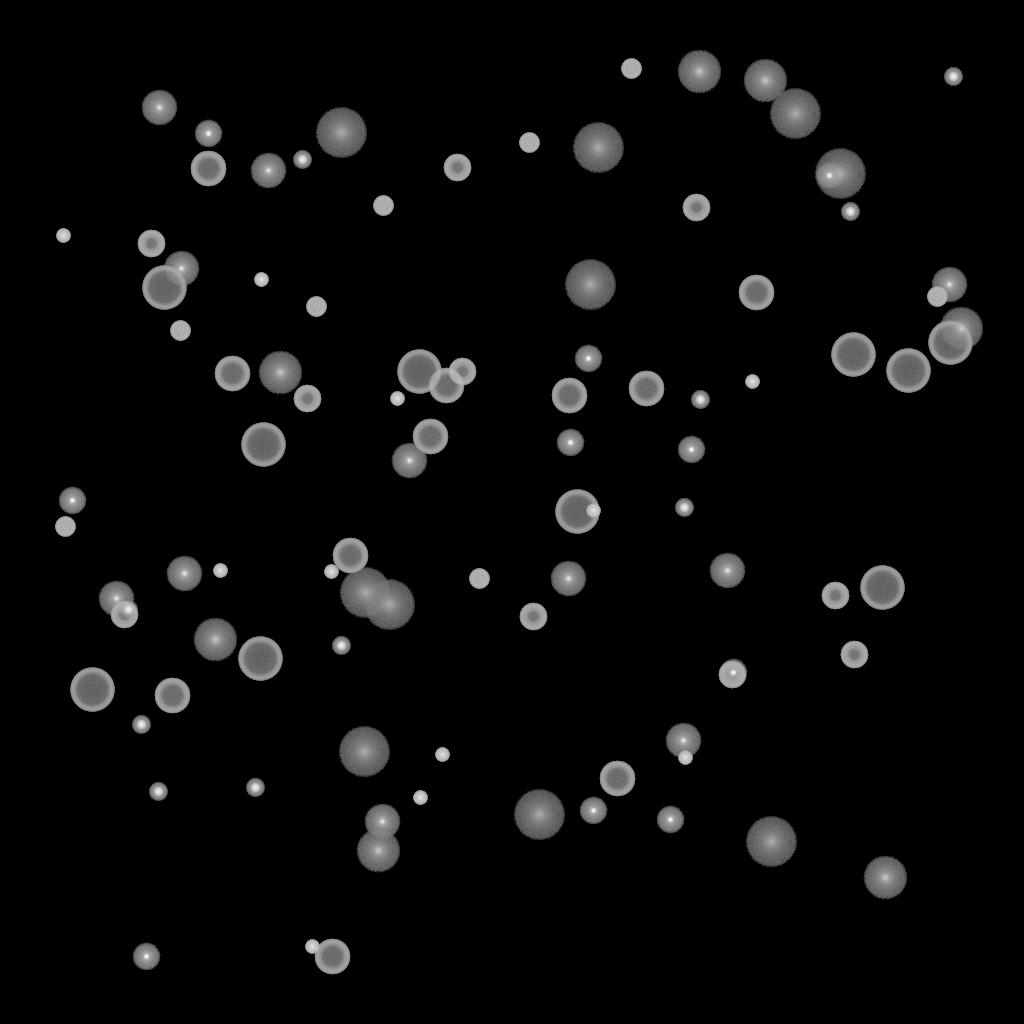depth:-10: (579, 797, 607, 825), (677, 436, 705, 464), (58, 487, 86, 515), (194, 120, 222, 148), (132, 943, 160, 971), (574, 345, 602, 373), (656, 806, 684, 834), (815, 162, 843, 190), (719, 659, 747, 687), (556, 429, 584, 457)
depth:-20: (293, 151, 311, 169), (691, 391, 709, 409), (246, 779, 264, 797), (132, 716, 150, 734), (841, 203, 859, 221), (675, 499, 693, 517), (332, 637, 350, 655), (149, 783, 167, 801), (119, 601, 137, 619), (944, 68, 962, 86)
depth:-30: (586, 504, 600, 518), (56, 229, 70, 243), (678, 751, 692, 765), (324, 565, 338, 579), (435, 748, 449, 762), (305, 940, 319, 954), (745, 375, 759, 389), (413, 791, 427, 805), (254, 273, 268, 287), (213, 564, 227, 578), (390, 392, 404, 406)
depth:-40: (621, 59, 641, 79), (55, 517, 75, 537), (519, 133, 539, 153), (170, 321, 190, 341), (469, 569, 489, 589), (306, 297, 326, 317), (373, 196, 393, 216), (927, 287, 947, 307)
depth:-50: (443, 154, 471, 182), (519, 603, 547, 631), (137, 230, 165, 258), (682, 194, 710, 222), (448, 358, 476, 386), (821, 582, 849, 610), (110, 601, 138, 629), (718, 661, 746, 689), (293, 385, 321, 413), (840, 641, 868, 669)
depth:-60: (738, 275, 774, 311), (314, 939, 350, 975), (154, 678, 190, 714), (214, 356, 250, 392), (551, 378, 587, 414), (412, 419, 448, 455), (599, 761, 635, 797), (332, 538, 368, 574), (428, 368, 464, 404), (190, 151, 226, 187), (628, 371, 664, 407)
depth:-70: (241, 423, 285, 467), (555, 490, 599, 534), (70, 668, 114, 712), (928, 321, 972, 365), (238, 637, 282, 681), (860, 566, 904, 610), (886, 349, 930, 393), (397, 350, 441, 394), (831, 333, 875, 377), (142, 266, 186, 310)
depth:0: (550, 561, 586, 597), (931, 267, 967, 303), (141, 90, 177, 126), (709, 553, 745, 589), (166, 556, 202, 592), (364, 804, 400, 840), (391, 443, 427, 479), (163, 251, 199, 287), (250, 153, 286, 189), (665, 723, 701, 759), (98, 581, 134, 617)
depth:10: (743, 59, 787, 103), (258, 351, 302, 395), (193, 618, 237, 662), (356, 829, 400, 873), (677, 50, 721, 94), (939, 307, 983, 351), (863, 856, 907, 900)
depth:20: (572, 123, 624, 173), (513, 790, 565, 840), (814, 149, 866, 199), (338, 727, 390, 777), (769, 89, 821, 139), (339, 568, 391, 618), (564, 260, 616, 310), (745, 817, 797, 867), (315, 108, 367, 158), (363, 580, 415, 630)
